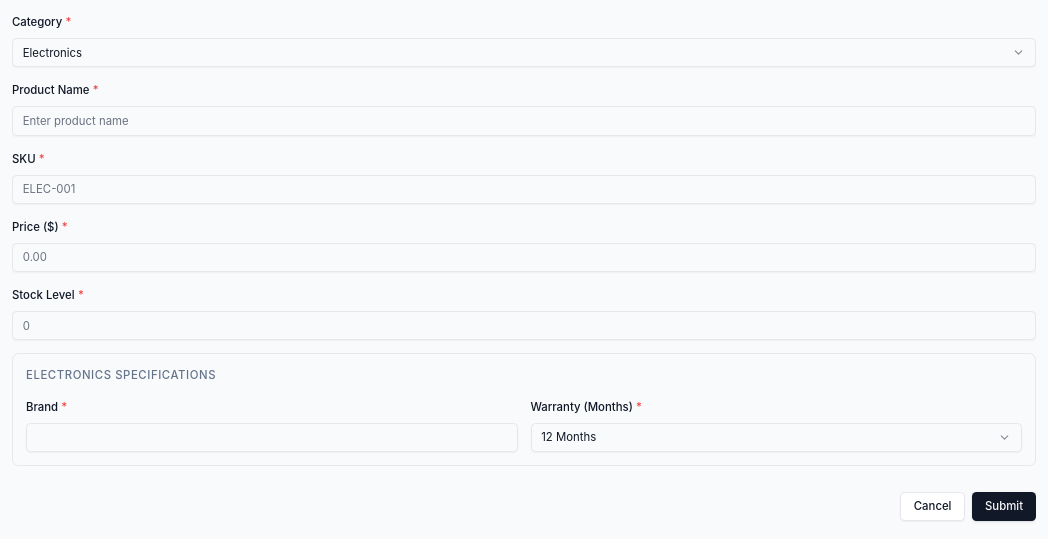
Test: ProductForm Integration › renders dynamic fields when category is changed
# Open the Category Select
Click the dropdown named "category" at x=52, y=52, box [12,38,1036,67]
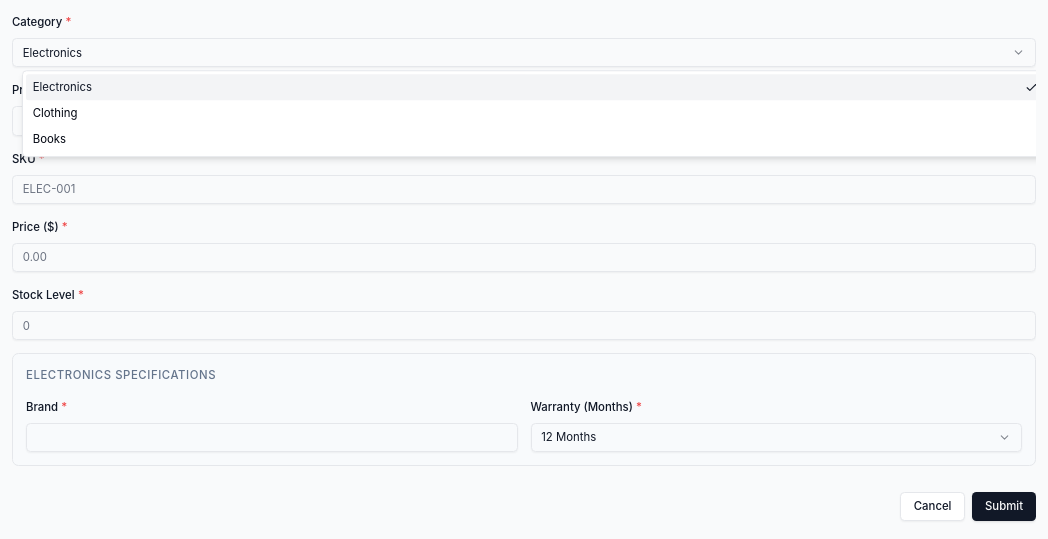
# Find and click 'Clothing'
Click the option "Clothing" at x=55, y=113, box [33,106,78,120]
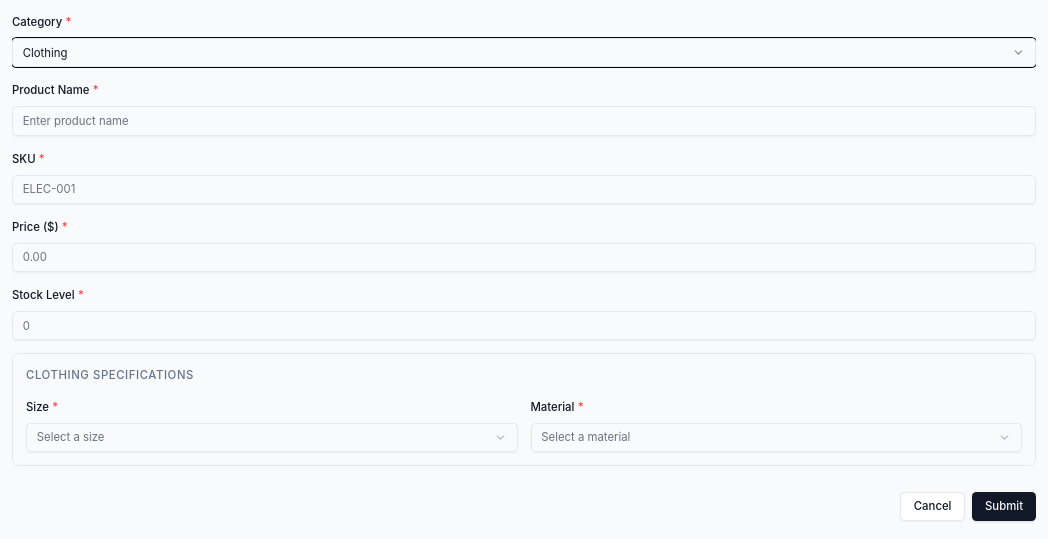
expect the label labelled "Brand" is gone: met
expect the dropdown labelled "Select a size" is shown: met, box [26,422,518,452]
